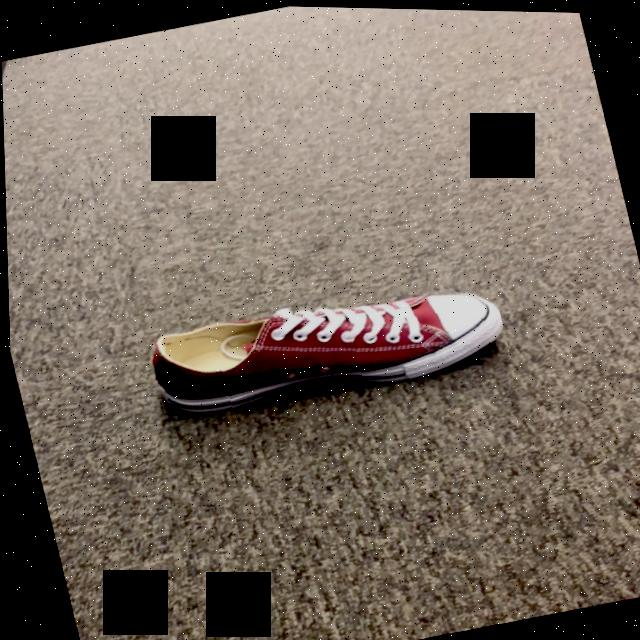shoe: (149, 291, 502, 415)
